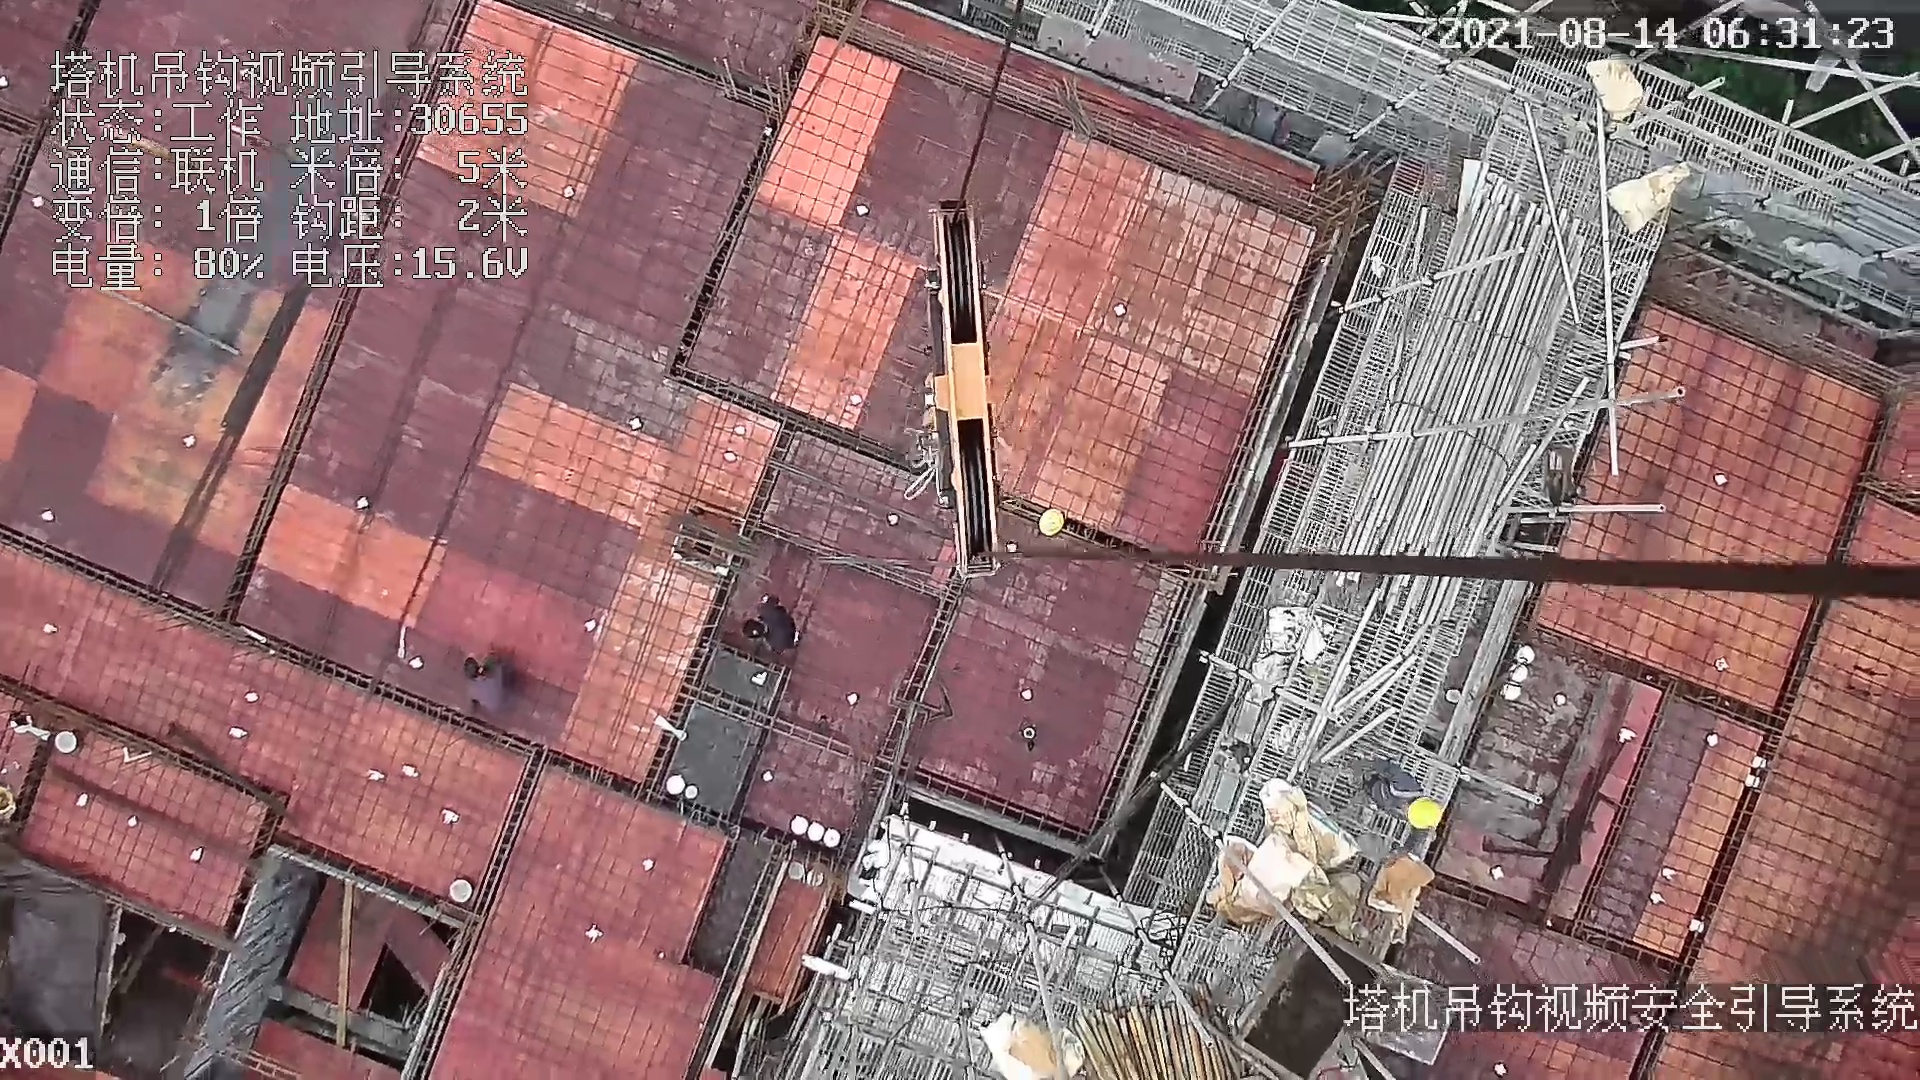helmet: (1407, 797, 1442, 830), (1035, 510, 1064, 537)
hook: (899, 195, 1005, 576)
person: (1341, 747, 1446, 836), (451, 648, 528, 718), (740, 596, 805, 657)
scaffold: (1354, 154, 1596, 612), (1046, 976, 1273, 1080)
